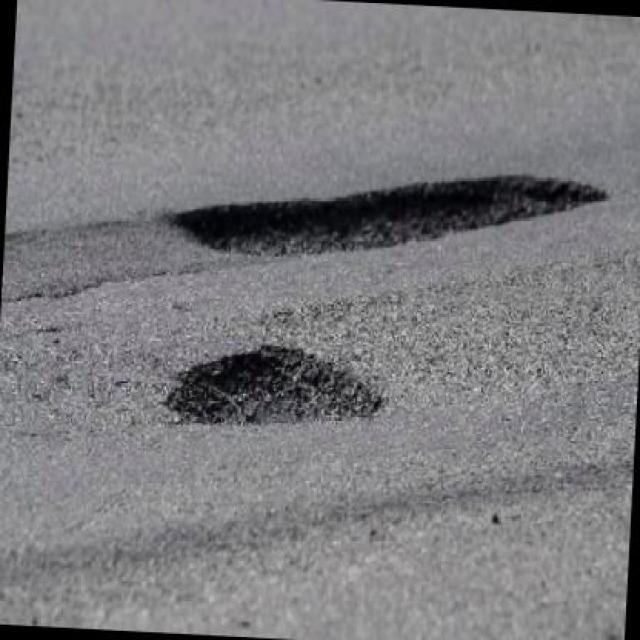pothole1: (163, 152, 611, 277), (160, 338, 388, 440)
